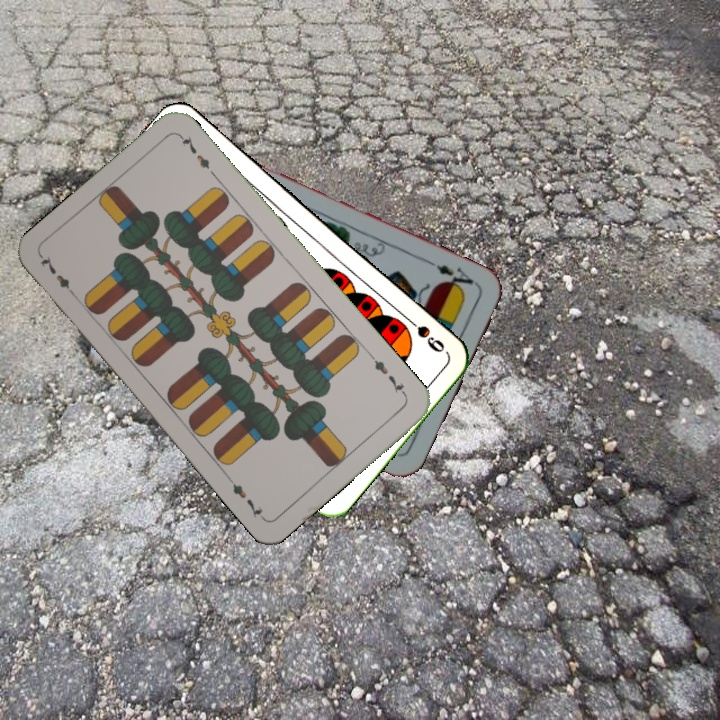E7: (36, 252, 80, 301), (366, 351, 410, 399)
EA: (432, 260, 479, 295)
S9: (400, 311, 447, 356)
